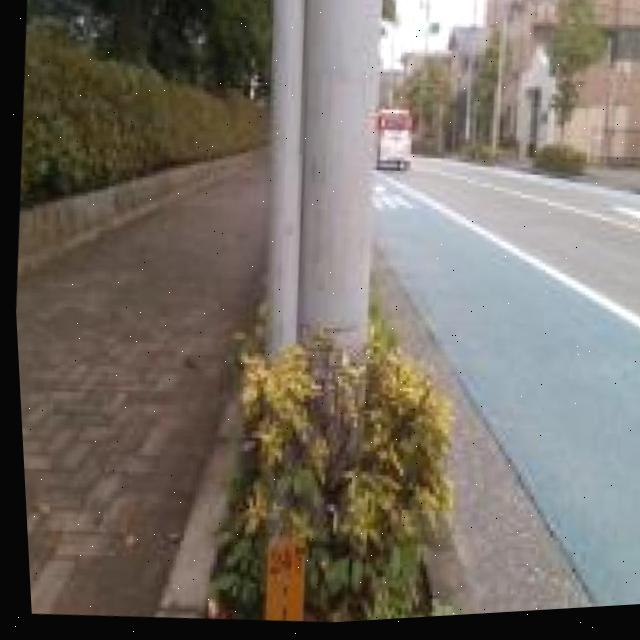Automobile: (373, 112, 409, 175)
Obstacle: (204, 312, 450, 626), (17, 29, 261, 204), (14, 153, 258, 276), (294, 0, 380, 340), (262, 0, 303, 352), (258, 538, 296, 624)
Road: (376, 190, 640, 614), (376, 160, 640, 338)
Sidewalk: (12, 160, 262, 618)
